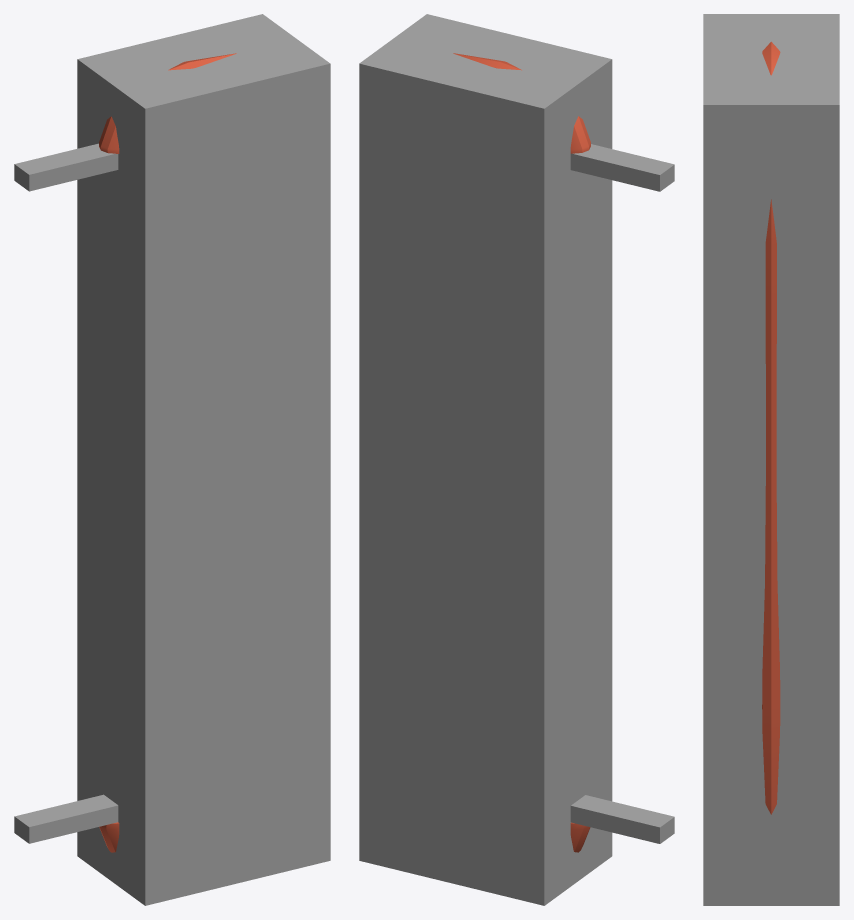
File: SM_Sign_01.fbx
3 views of the same model, side by side, from view 1: azimuth 30°, elevation 25°; view 2: azimuth 150°, elevation 25°; view 3: azimuth 270°, elevation 25° (orthographic).
Visible parts, largest first — view 1: SM_Sign_01_UCX, SM_Sign_01; view 2: SM_Sign_01_UCX, SM_Sign_01; view 3: SM_Sign_01_UCX, SM_Sign_01.
Boxes of the visible parts, x1=… form: SM_Sign_01_UCX: x1=77, y1=14, x2=330, y2=905; SM_Sign_01: x1=14, y1=53, x2=236, y2=852; SM_Sign_01_UCX: x1=359, y1=14, x2=612, y2=905; SM_Sign_01: x1=453, y1=53, x2=674, y2=852; SM_Sign_01_UCX: x1=703, y1=14, x2=839, y2=905; SM_Sign_01: x1=762, y1=41, x2=780, y2=814.
Size of the model in its own units: 689 by 1905 by 291.
